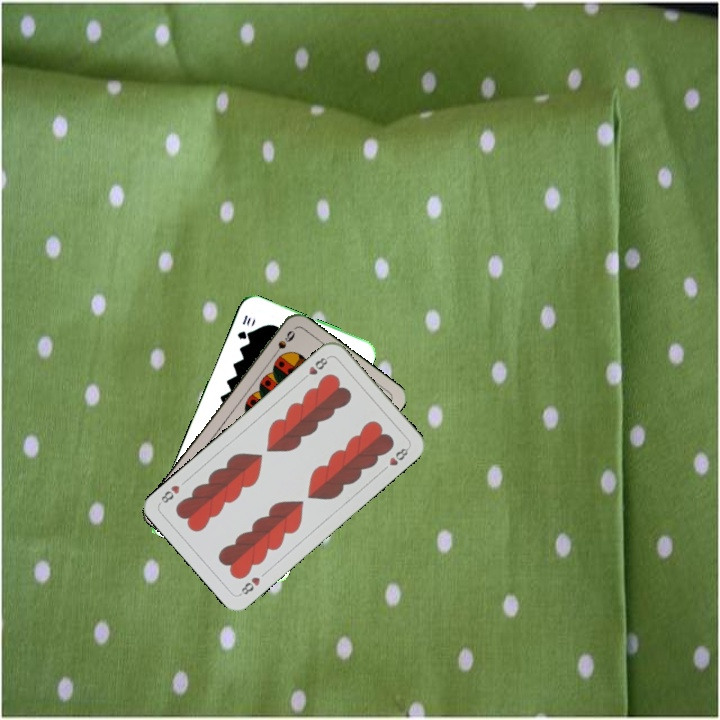G10: (233, 311, 254, 342)
H8: (298, 353, 332, 383), (235, 573, 263, 598)
S9: (268, 326, 298, 361)
